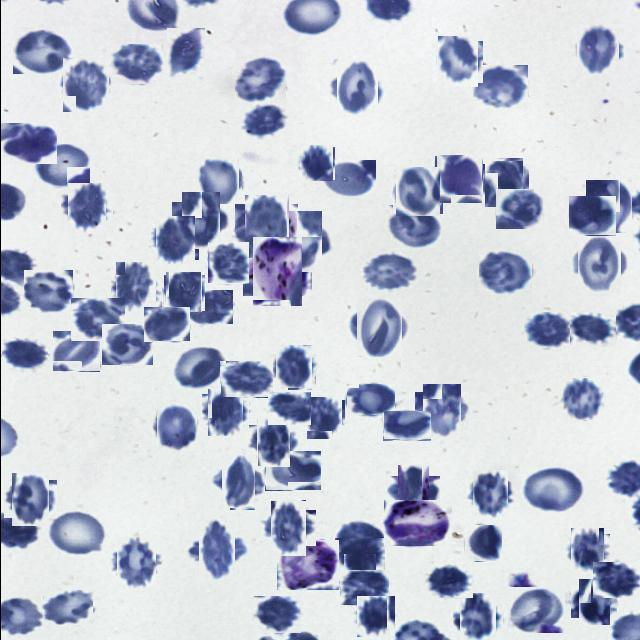red blood cell: (520, 467, 586, 514), (12, 27, 74, 74), (46, 509, 107, 556), (238, 200, 292, 253), (352, 301, 405, 353), (276, 215, 326, 268), (507, 587, 564, 633), (60, 59, 110, 110), (32, 144, 89, 188), (574, 239, 624, 289), (332, 64, 382, 114), (584, 182, 634, 232), (234, 55, 285, 103), (171, 345, 225, 390), (472, 65, 527, 109), (385, 205, 441, 248), (360, 250, 417, 292), (478, 250, 531, 295), (192, 526, 241, 574), (70, 298, 124, 341), (176, 197, 224, 245), (0, 123, 56, 164), (394, 168, 441, 216), (264, 451, 320, 491), (434, 156, 482, 202), (109, 44, 162, 85), (23, 270, 72, 314), (101, 322, 152, 364), (319, 160, 375, 198), (574, 26, 620, 72), (264, 505, 310, 551), (418, 388, 464, 434), (113, 264, 158, 310), (7, 476, 52, 522), (153, 404, 198, 449), (434, 39, 479, 84), (64, 186, 108, 232), (112, 540, 158, 584), (51, 331, 99, 372), (494, 189, 542, 230), (219, 361, 272, 398), (481, 161, 525, 205), (196, 159, 240, 203), (216, 460, 260, 504), (152, 218, 196, 262), (567, 196, 615, 236), (238, 100, 288, 138), (166, 28, 204, 77), (456, 596, 498, 640), (252, 596, 300, 634), (561, 378, 604, 420), (468, 473, 511, 515), (42, 588, 92, 624), (339, 570, 388, 606), (252, 420, 294, 462), (392, 470, 434, 512), (206, 242, 248, 284), (523, 312, 571, 348), (592, 562, 640, 598), (182, 290, 232, 324), (272, 347, 313, 388), (338, 534, 379, 574), (204, 392, 245, 432), (424, 564, 472, 598), (335, 521, 384, 554), (569, 312, 615, 347), (566, 531, 606, 571), (355, 597, 395, 637), (0, 338, 47, 372), (345, 384, 394, 416), (143, 307, 189, 341), (304, 398, 342, 438), (164, 274, 203, 312), (574, 582, 612, 621), (382, 410, 430, 440), (267, 392, 310, 425), (464, 525, 502, 562), (298, 146, 333, 181)
trophozoite: (246, 241, 306, 301), (383, 500, 451, 546), (276, 540, 338, 590)
